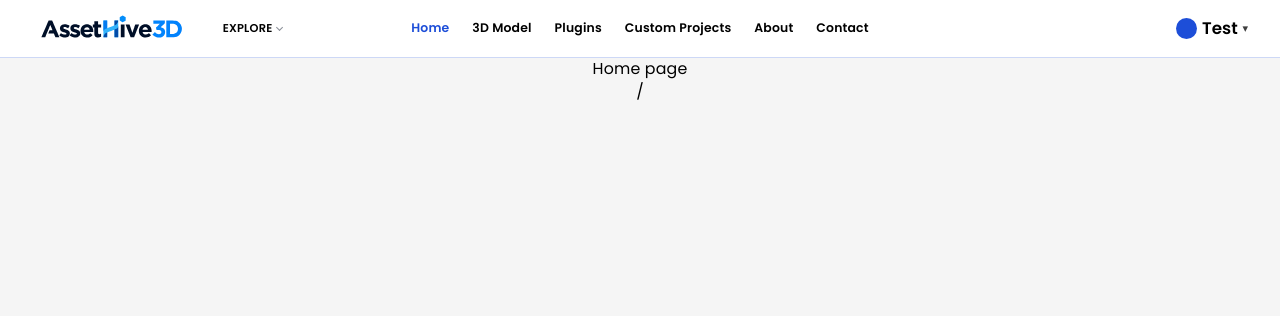
it: Navbar › shows Admin and Profile for administrators
The image size is (1280, 316).
Click the button "Test ▾" at point(1212, 28), box [1176,12,1248,44]
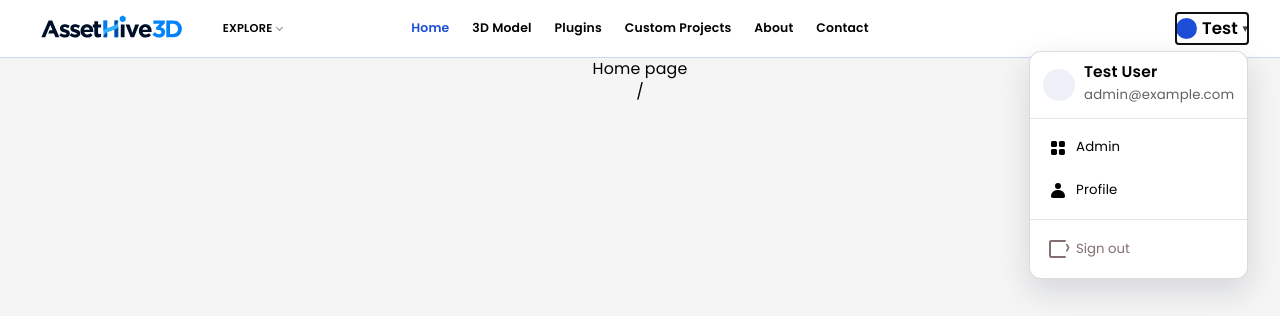
Now the menu item "Admin" is shown, box [1049,137,1120,157]
Now the menu item "Profile" is shown, box [1049,180,1118,199]
